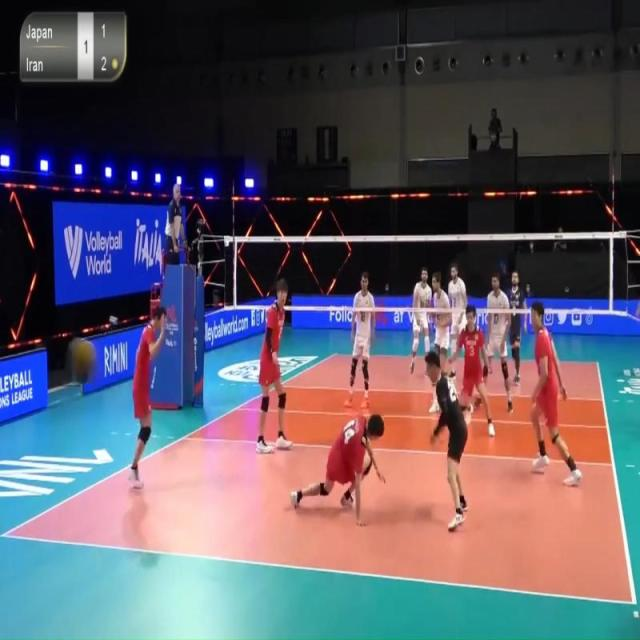volleyball: (66, 334, 100, 390)
